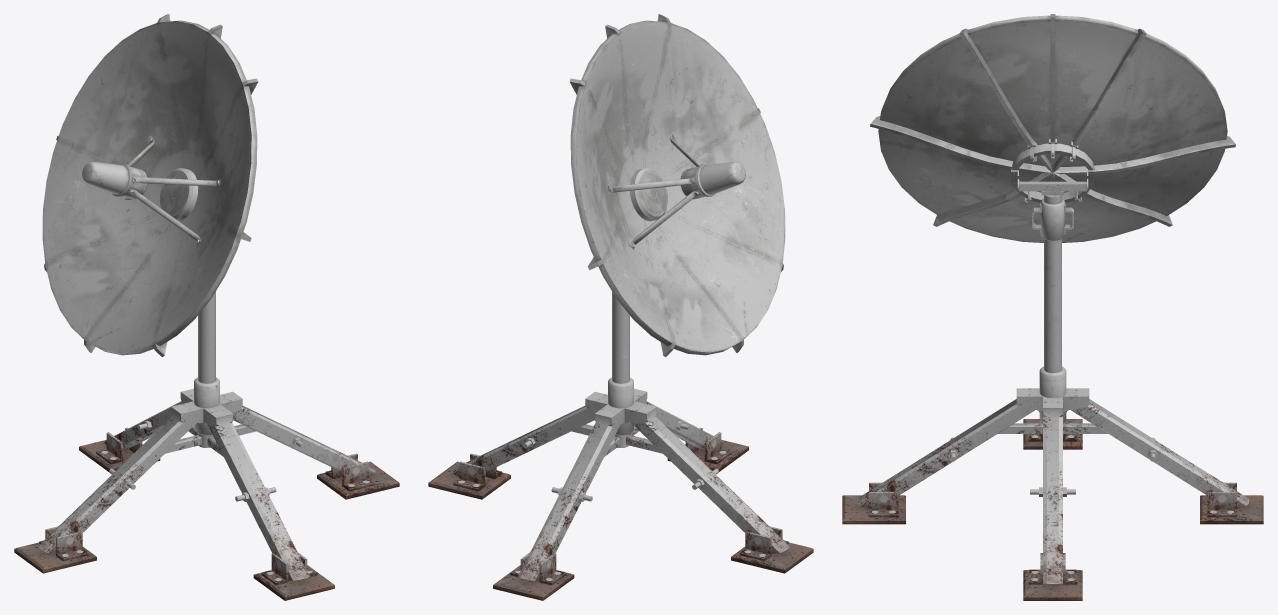
File: Prop_Antenna.fbx
The picture shows the model from 3 angles, left to right: view 1: azimuth 30°, elevation 25°; view 2: azimuth 150°, elevation 25°; view 3: azimuth 270°, elevation 25°; orthographic projection. The views are drawn at different scales.
Parts seen in each view (by area): view 1: Prop_Antenna_Animation, Prop_Antenna; view 2: Prop_Antenna_Animation, Prop_Antenna; view 3: Prop_Antenna_Animation, Prop_Antenna.
Part boxes in pixels (bbox=[...]): Prop_Antenna_Animation: bbox=[42, 14, 258, 356]; Prop_Antenna: bbox=[14, 291, 399, 600]; Prop_Antenna_Animation: bbox=[569, 14, 785, 356]; Prop_Antenna: bbox=[428, 291, 813, 600]; Prop_Antenna_Animation: bbox=[870, 14, 1235, 242]; Prop_Antenna: bbox=[842, 195, 1263, 600].
Size of the model in its own units: 169 by 222 by 169.
